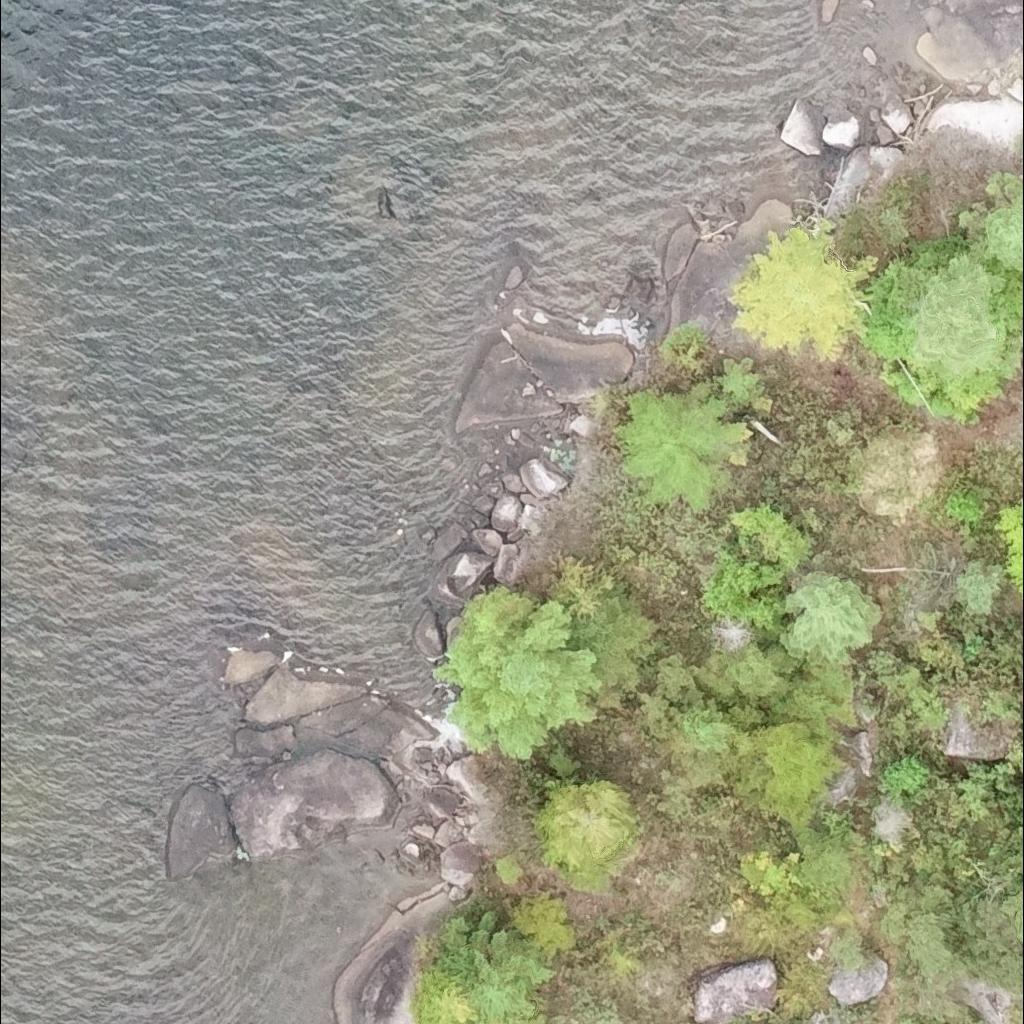crown: (430, 584, 605, 760), (726, 227, 880, 363), (612, 377, 747, 514), (431, 909, 562, 1023), (909, 249, 1008, 379), (778, 569, 886, 667), (536, 777, 640, 871), (570, 584, 660, 674), (978, 171, 1023, 274), (418, 969, 477, 1023)
